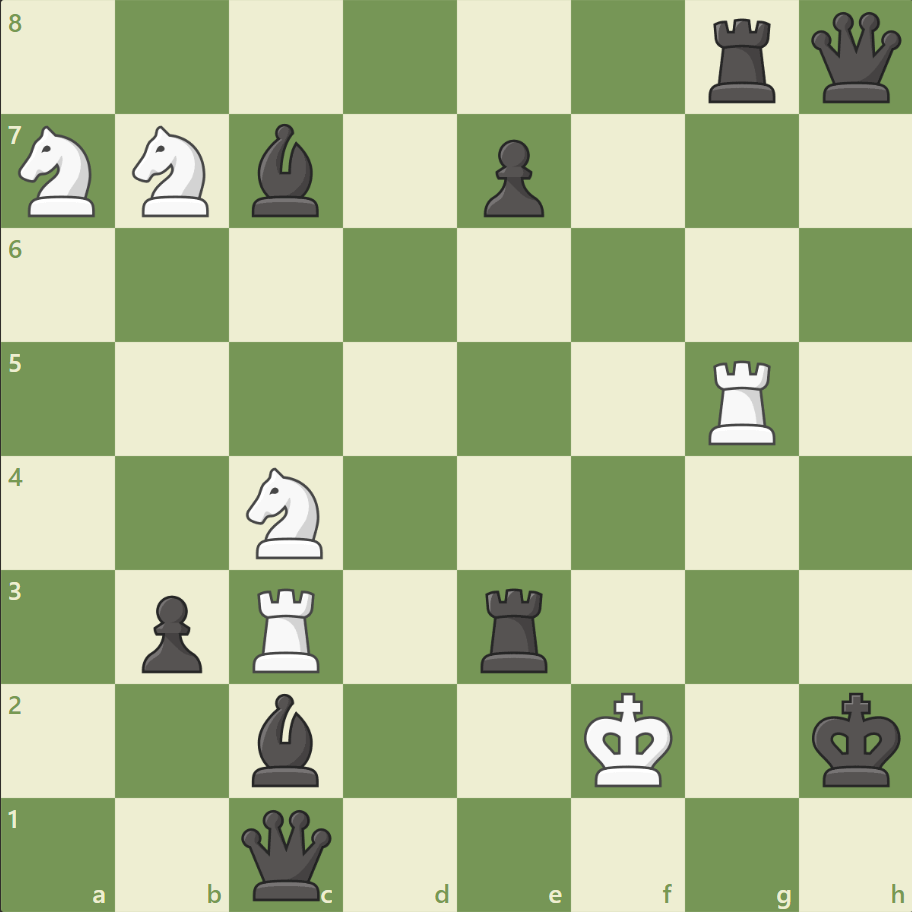K: (579, 685, 679, 793)
N: (124, 121, 222, 223), (238, 461, 335, 564), (11, 121, 108, 223)
R: (700, 352, 783, 449), (246, 579, 329, 676)
b: (244, 687, 328, 790), (244, 120, 328, 222)
k: (806, 685, 906, 793)
p: (474, 132, 549, 223), (133, 586, 208, 677)
q: (805, 9, 904, 108), (237, 804, 336, 903)
r: (700, 12, 783, 109), (473, 579, 556, 676)
